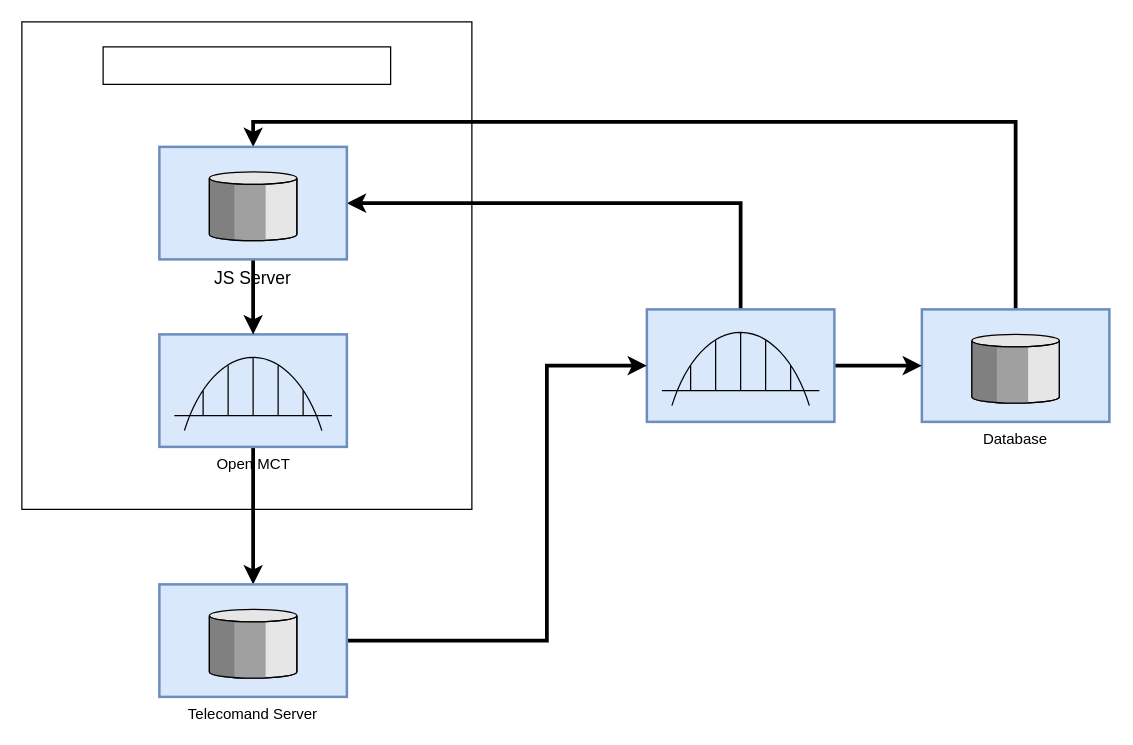
Image size: 1133x745. Some labels were removed from this diagram. Each missing label, with the centre of its shape:
Local: point (246, 65)
The DBU: point (740, 365)
